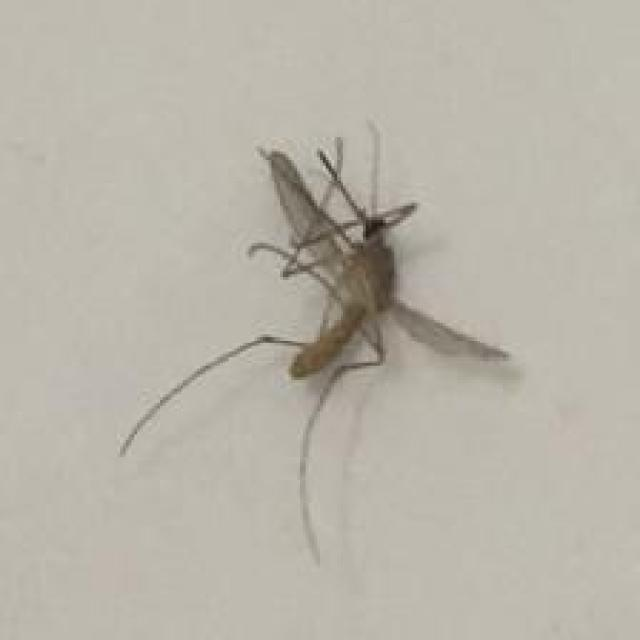Culex: (117, 119, 512, 567)
